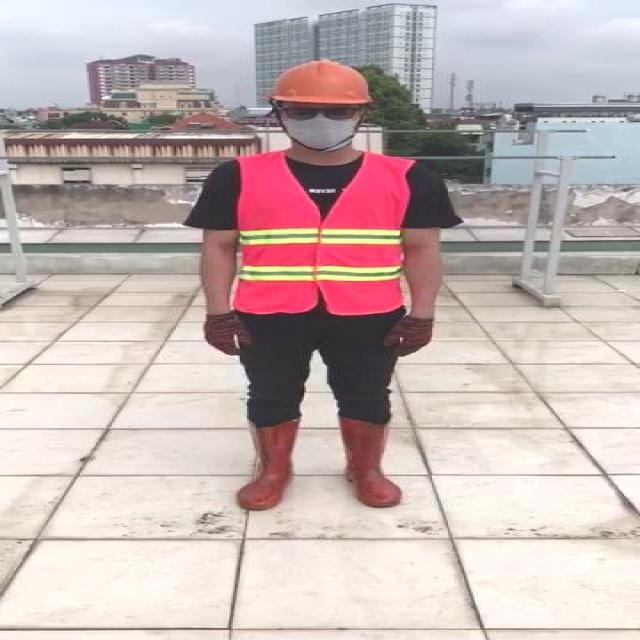boots: (234, 415, 298, 514), (338, 415, 400, 507)
face_mask: (283, 103, 357, 149)
glasses: (276, 103, 362, 124)
hand_glove: (382, 315, 436, 358), (202, 314, 252, 357)
head_helmet: (263, 62, 382, 105)
person: (185, 54, 469, 528)
vest: (226, 150, 418, 315)
